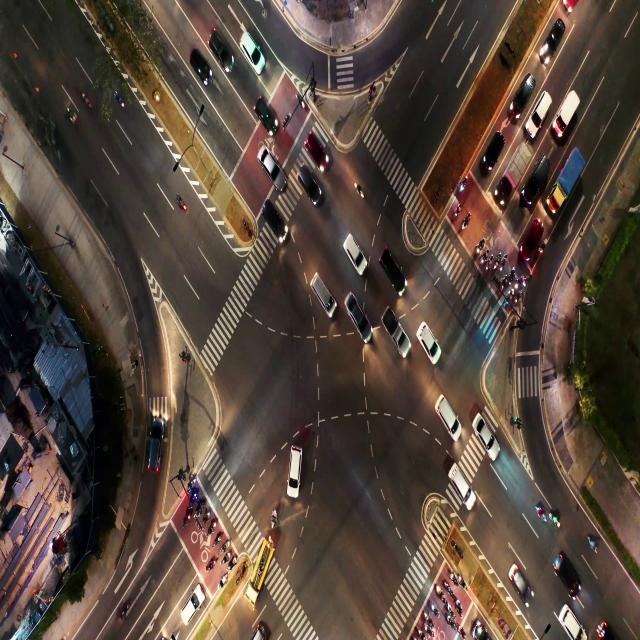bus: (256, 551, 270, 581)
car: (477, 418, 491, 444), (262, 204, 280, 224), (314, 275, 327, 302), (260, 149, 272, 176), (149, 431, 160, 459), (513, 566, 523, 594), (302, 168, 313, 192), (348, 296, 360, 318), (240, 36, 256, 52), (345, 235, 356, 257), (386, 253, 396, 277), (195, 49, 204, 75), (534, 167, 544, 188), (568, 614, 576, 640), (548, 29, 558, 49), (309, 137, 318, 158), (422, 327, 431, 347), (559, 554, 568, 574), (440, 402, 449, 420), (212, 36, 222, 52), (289, 457, 298, 474), (258, 96, 266, 115), (186, 600, 195, 616), (488, 140, 496, 158), (521, 80, 530, 96), (536, 106, 545, 122), (458, 469, 464, 491), (530, 230, 536, 244)
motorcycle: (354, 182, 364, 202), (533, 506, 546, 520), (84, 92, 93, 112), (68, 106, 77, 125), (549, 514, 560, 528), (120, 600, 128, 618), (590, 538, 598, 556), (298, 92, 305, 111), (117, 90, 123, 110), (270, 512, 277, 526), (424, 624, 432, 636), (461, 177, 468, 190), (178, 200, 185, 212), (452, 206, 459, 217), (208, 557, 214, 569), (460, 578, 466, 589), (184, 516, 190, 526), (456, 600, 462, 610), (463, 218, 468, 228), (436, 586, 441, 596), (196, 505, 201, 514), (459, 625, 464, 634), (203, 514, 208, 522), (508, 273, 512, 283), (447, 616, 452, 624), (431, 604, 435, 614), (216, 534, 220, 543), (222, 556, 228, 562), (476, 244, 480, 253), (424, 613, 429, 620), (192, 494, 196, 502), (452, 574, 456, 582), (448, 604, 452, 612), (229, 561, 234, 567), (222, 544, 226, 551), (482, 255, 486, 262), (494, 263, 498, 270), (500, 264, 504, 271), (502, 282, 506, 289), (540, 245, 544, 252), (508, 294, 512, 301), (417, 627, 421, 634), (188, 482, 192, 488), (210, 524, 213, 532), (486, 262, 490, 268), (514, 298, 518, 304), (444, 582, 448, 588), (221, 578, 224, 585), (515, 281, 518, 288), (523, 281, 527, 286)
truck: (559, 163, 573, 185), (510, 158, 522, 183), (560, 106, 573, 129), (388, 317, 398, 338)
